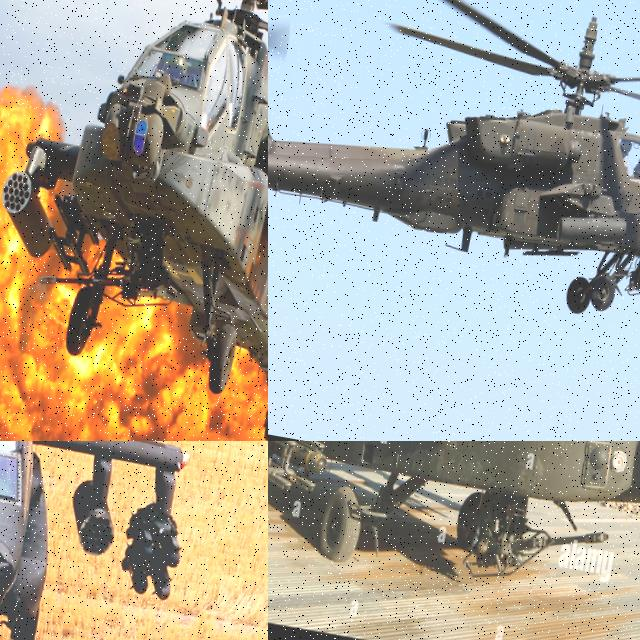Apache: (268, 0, 640, 346), (0, 0, 268, 441), (268, 441, 640, 621), (0, 441, 268, 640)
